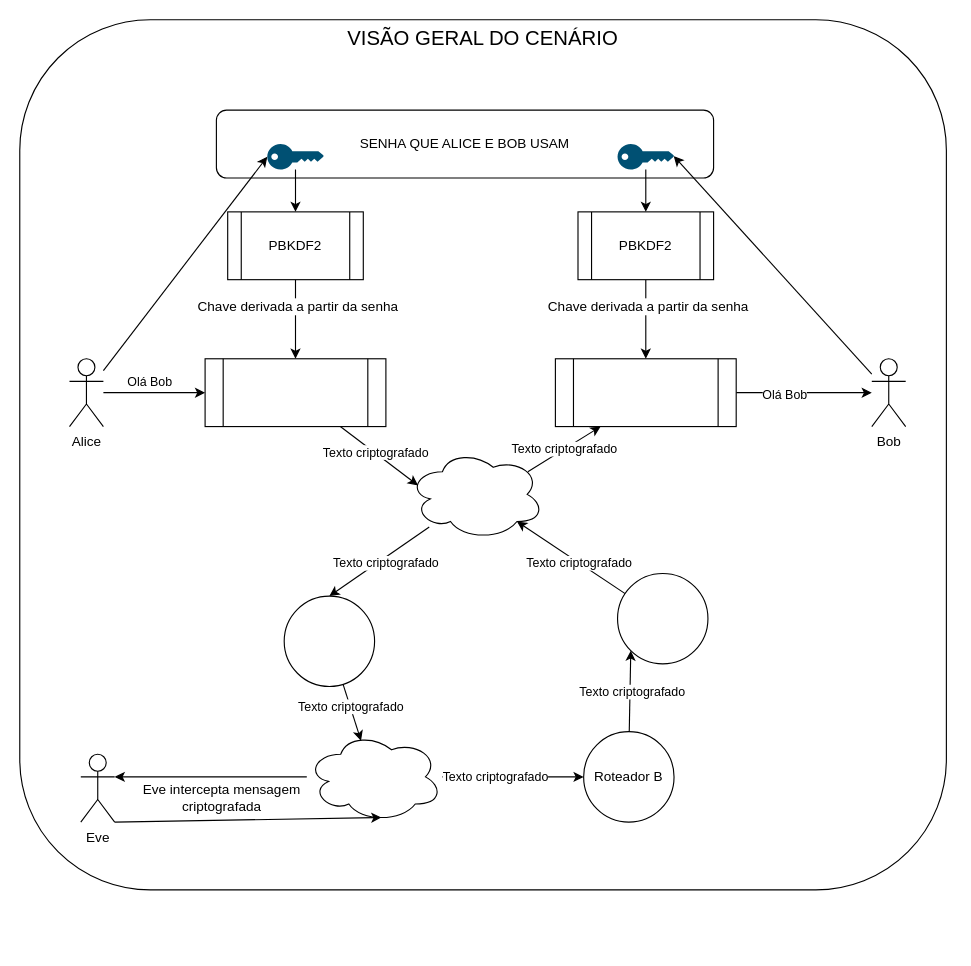
Some shapes in this 971 by 966 pixel diagram are drawn without their labels. Each missing label, with the centre of its shape:
Criptografar(AES-GCM): pixel 295 392
Descriptografar(AES-GCM): pixel 645 392
Roteador A: pixel 329 640
Roteador C: pixel 662 618
